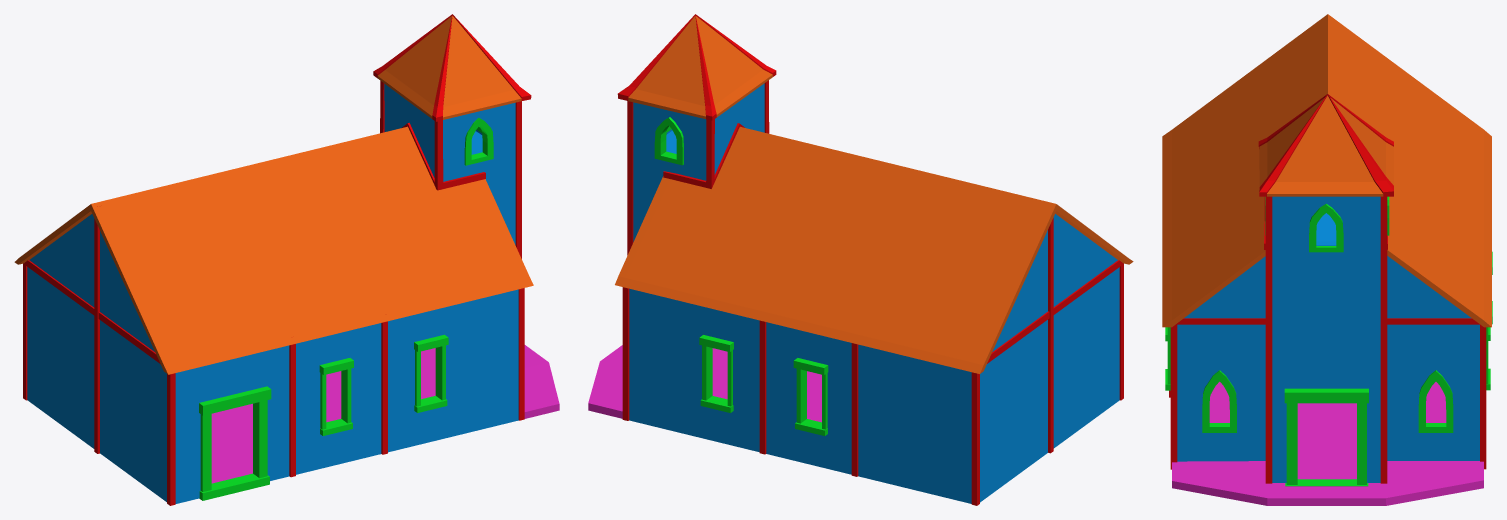
File: Church.fbx
The picture shows the model from 3 angles, left to right: view 1: azimuth 30°, elevation 25°; view 2: azimuth 150°, elevation 25°; view 3: azimuth 270°, elevation 25°; orthographic projection. The views are drawn at different scales.
Parts seen in each view (by area): view 1: église; view 2: église; view 3: église.
Part boxes in pixels (x1=…): église: x1=14, y1=14, x2=559, y2=505; église: x1=588, y1=14, x2=1133, y2=505; église: x1=1162, y1=14, x2=1492, y2=505.
Bounding box in the file's own units: 1708 × 1337 × 1062.
